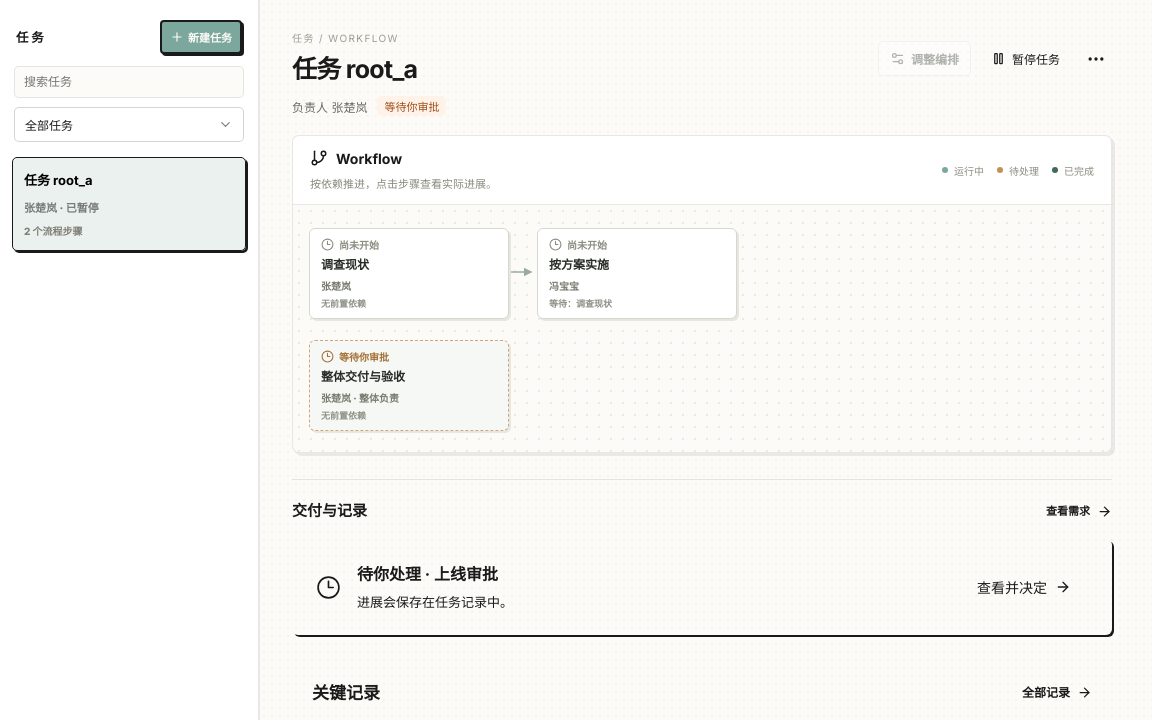
Test: 独立任务工作区 › 审批冲突保留反馈，新候选不沿用旧版本批准
The image size is (1152, 720).
Click the button "查看并决定": (1024, 587) 960,566 -> 1088,609
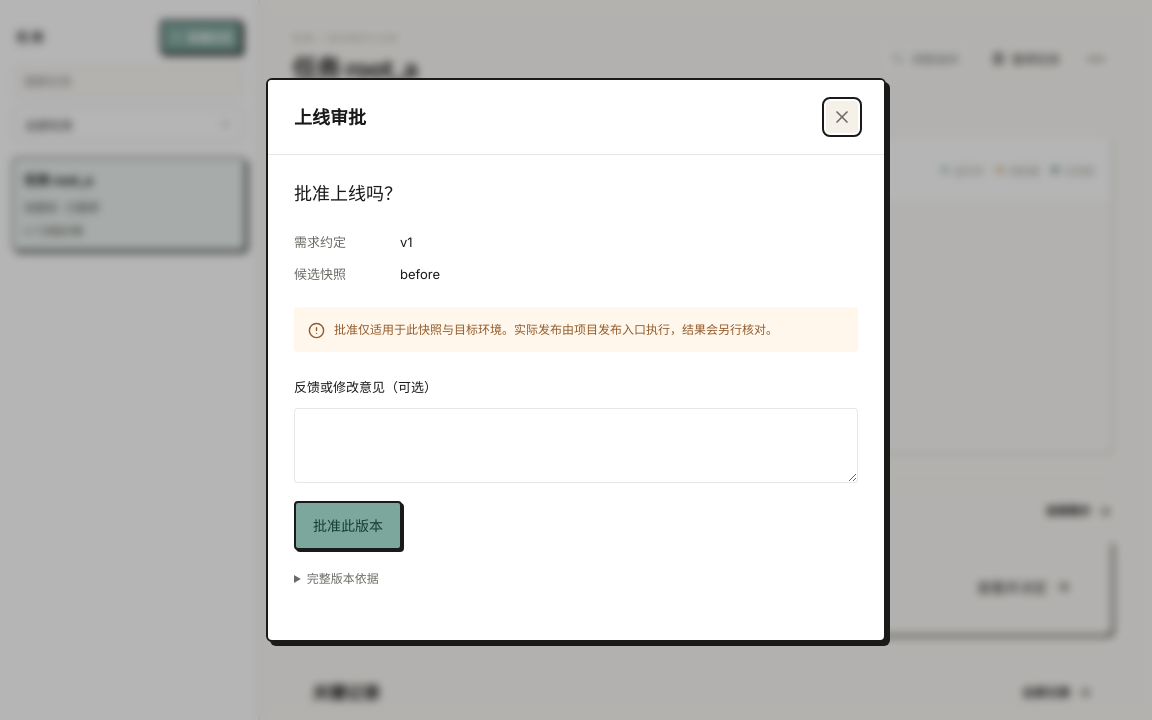
In the text box labelled "反馈或修改意见（可选）": (576, 445) 294,408 -> 858,483, type "先检查目标环境"
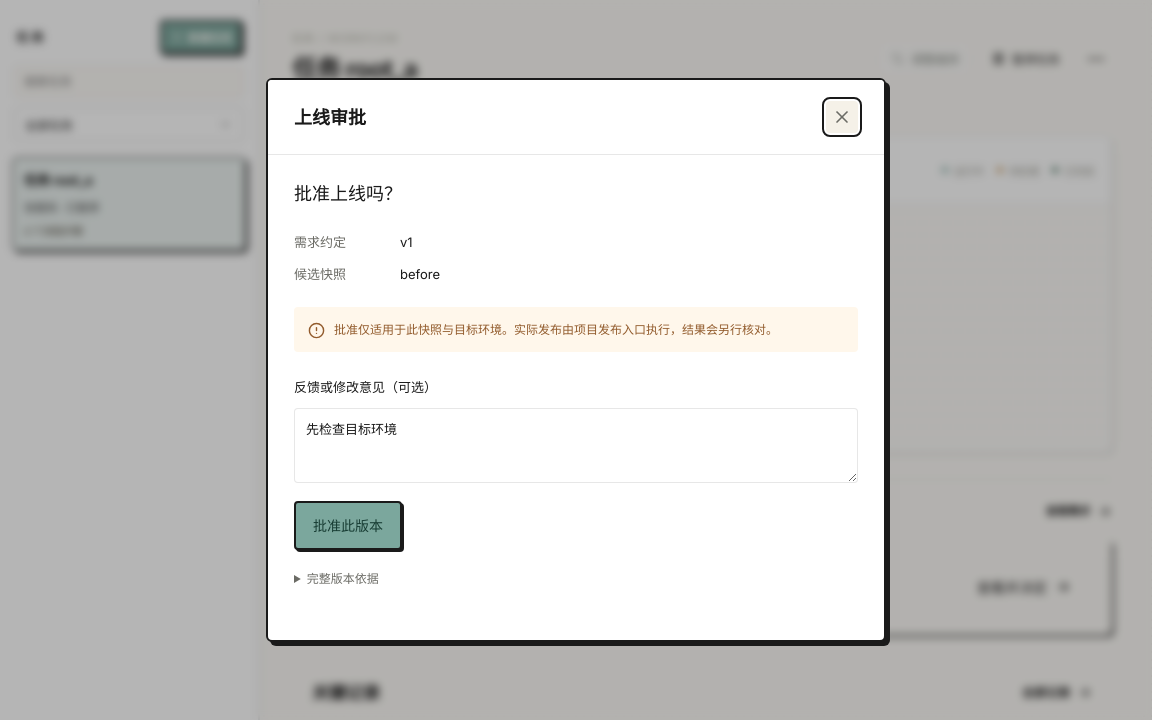
Click the button "批准此版本": (348, 525) 294,501 -> 402,550
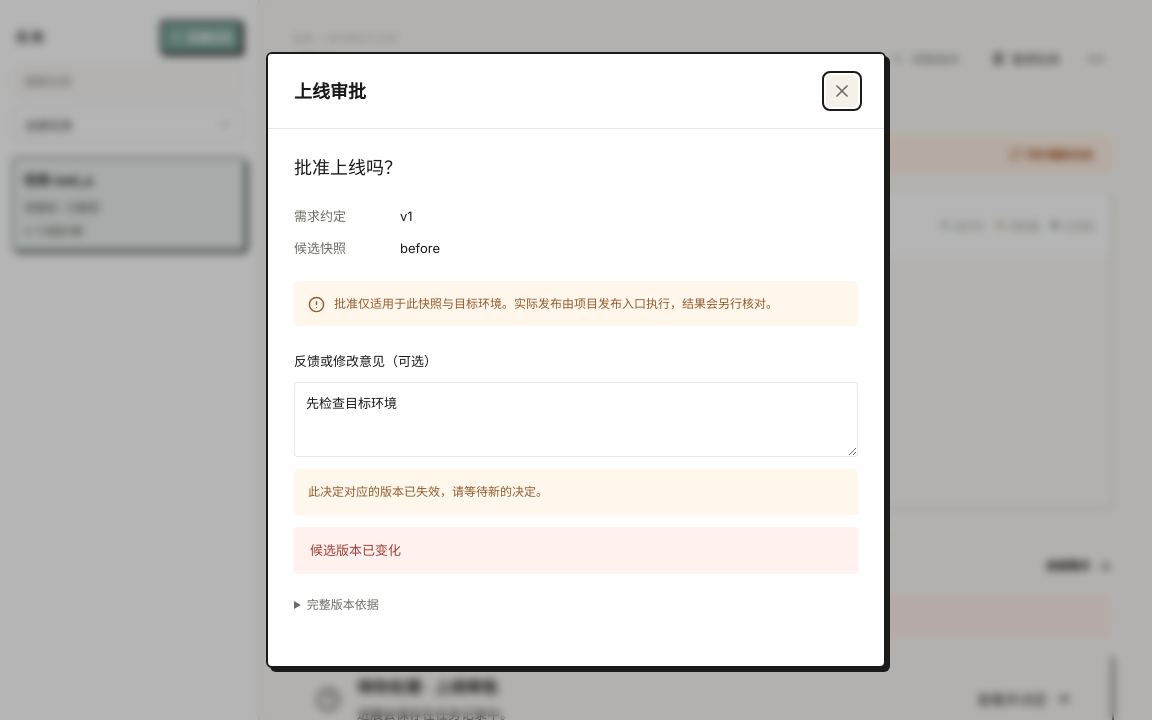
Now the text "此决定对应的版本已失效，请等待新的决定。" is shown, box 294,469 -> 858,514
Now the button "批准此版本" is gone
